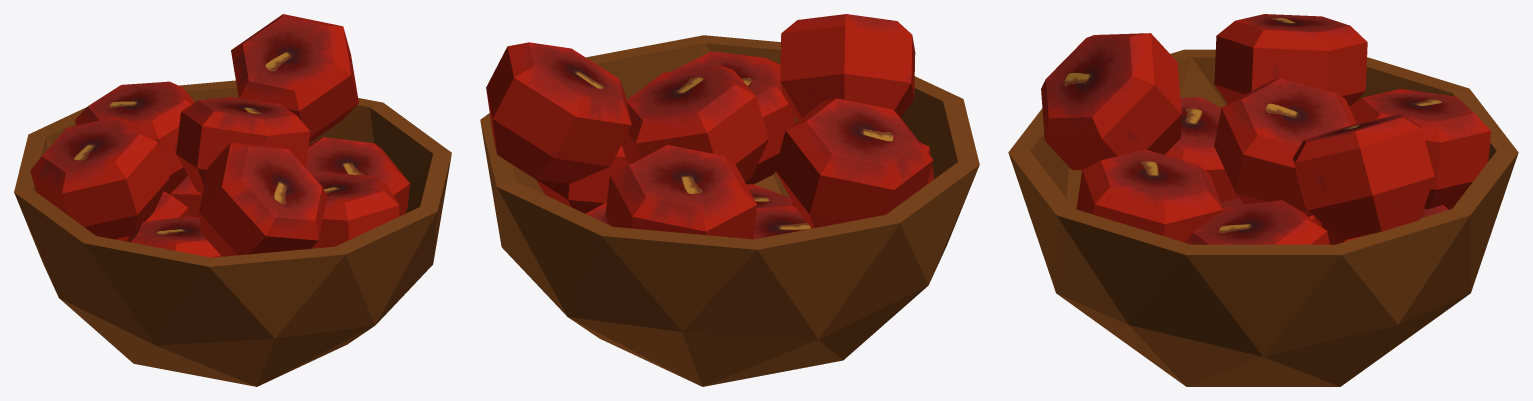
Rendered from bowlApples.fbx.
The picture shows the model from 3 angles, left to right: view 1: azimuth 30°, elevation 25°; view 2: azimuth 150°, elevation 25°; view 3: azimuth 270°, elevation 25°; orthographic projection. The views are drawn at different scales.
Visible parts, largest first — view 1: Bowl; view 2: Bowl; view 3: Bowl.
Part boxes in pixels (box(x1,y1,x2,y2)): Bowl: box(14, 14, 451, 386); Bowl: box(480, 14, 979, 386); Bowl: box(1008, 14, 1518, 386).
Bounding box in the file's own units: 208 × 136 × 219.
Materials: 2 (1 with a texture image).
